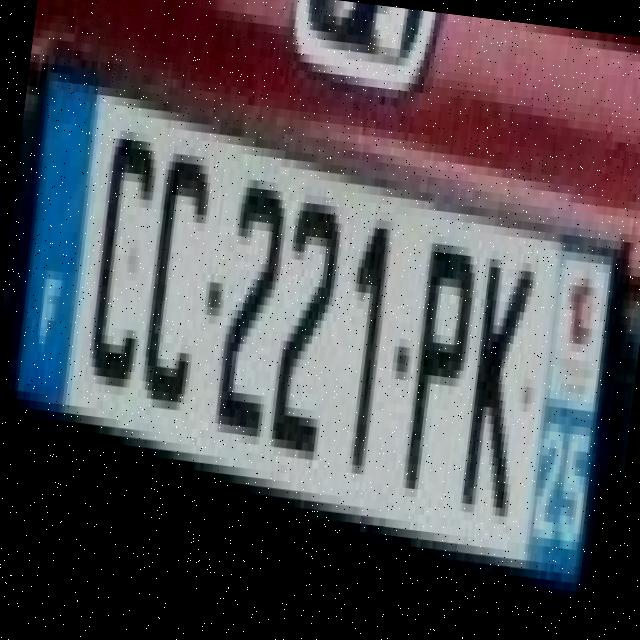EU: (12, 57, 631, 590)
France: (12, 73, 100, 408)
